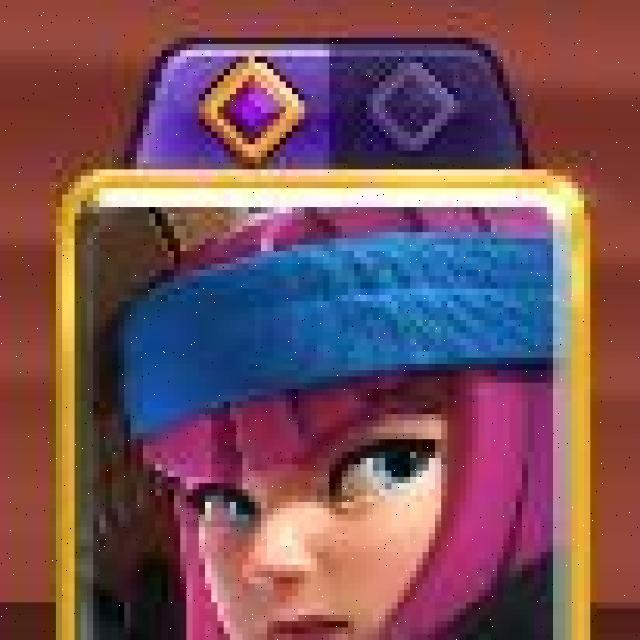Firecracker: (55, 170, 596, 640)
